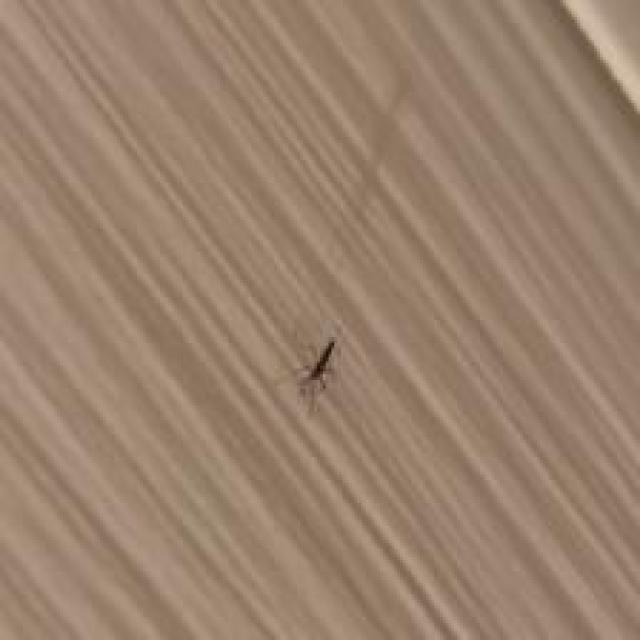Aedes albopictus: (292, 337, 337, 414)
